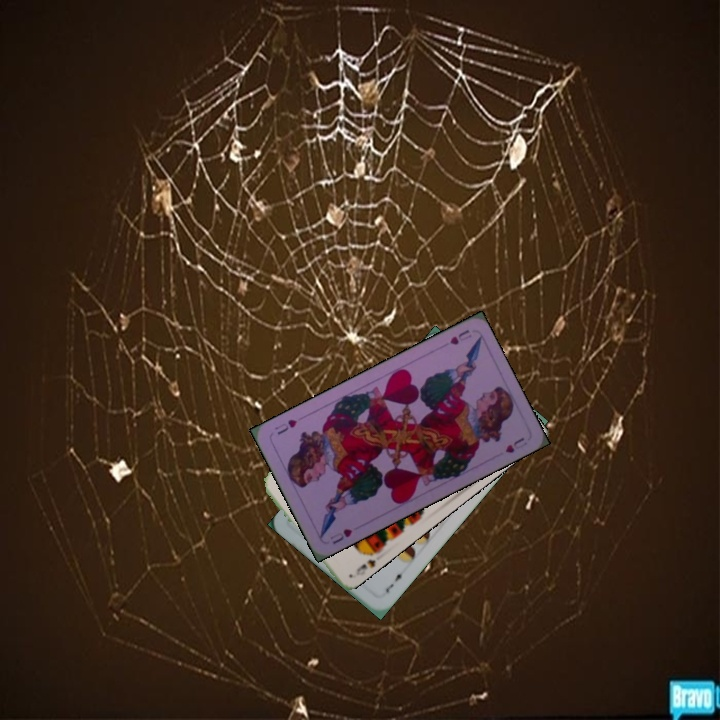E7: (381, 567, 408, 595)
HU: (326, 524, 355, 547), (446, 326, 474, 347)
S9: (352, 544, 382, 578)
